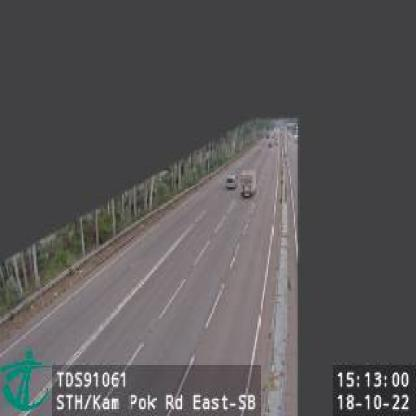Car: (226, 175, 239, 191)
Truck: (241, 168, 259, 198)
